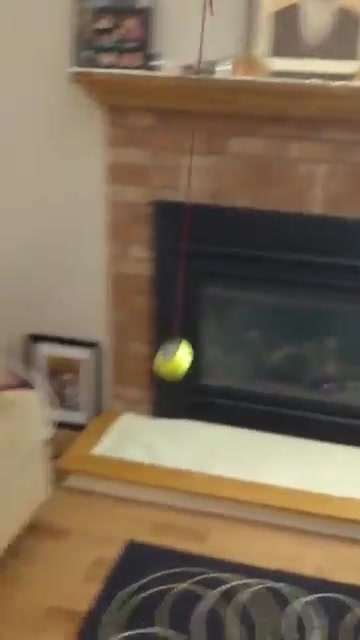tennis_ball: (152, 338, 196, 381)
